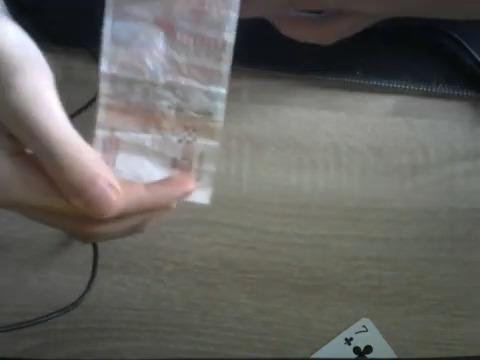5leva: (0, 0, 241, 243)
